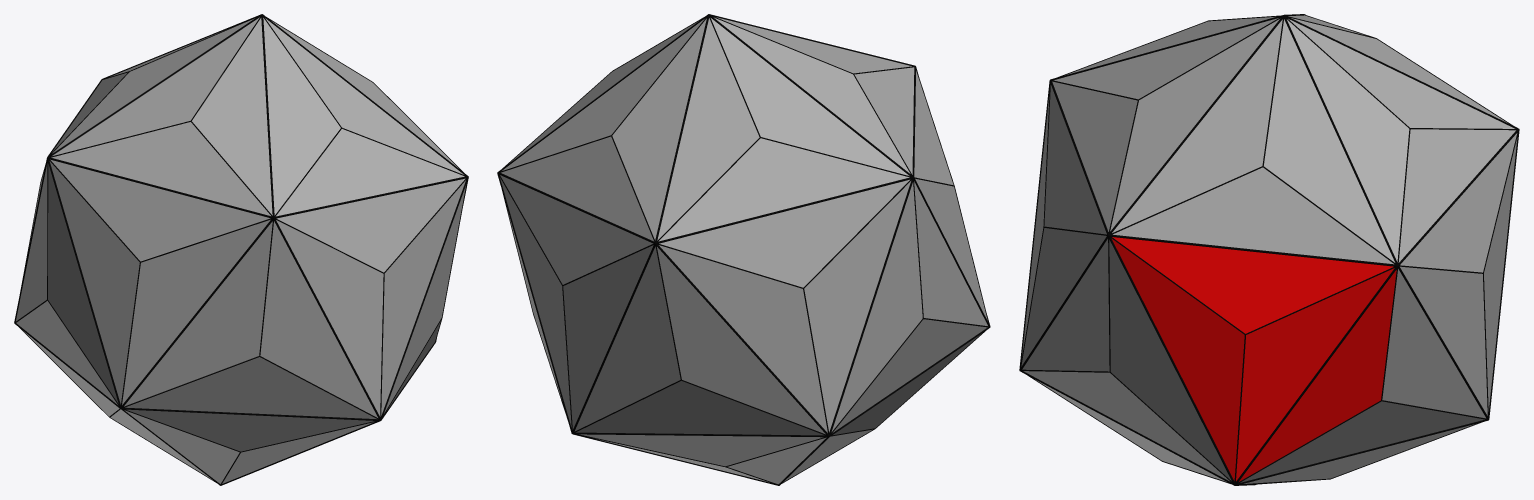
Rendered from TriakisIcosahedron3.glb.
3 renders of one model, left to right at view 1: azimuth 30°, elevation 25°; view 2: azimuth 150°, elevation 25°; view 3: azimuth 270°, elevation 25°, orthographic. The views are drawn at different scales.
Size of the model in its own units: 5.86 by 6.85 by 6.21.
